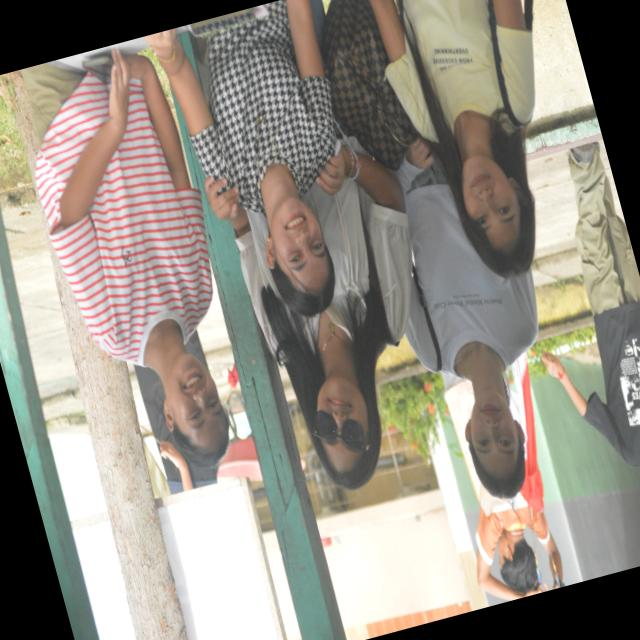person: (21, 49, 227, 467), (204, 138, 410, 489), (145, 0, 334, 316), (396, 137, 536, 497), (369, 0, 534, 276), (541, 142, 639, 466), (442, 373, 562, 600), (133, 365, 216, 493)
